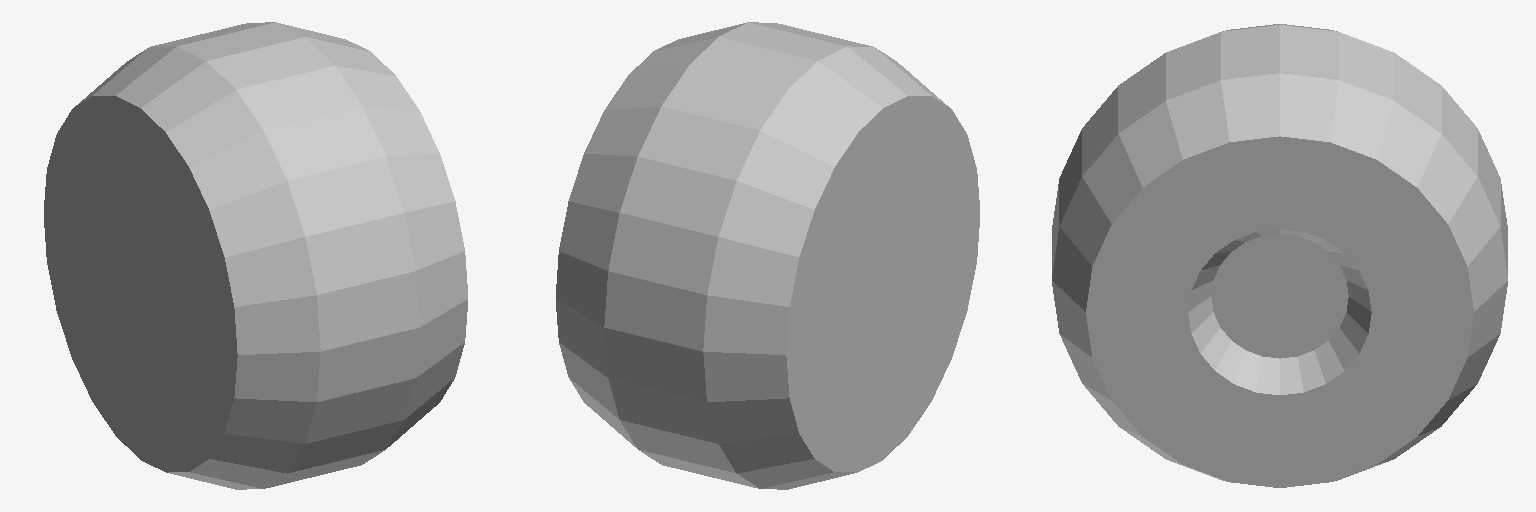
File: llanta_sedan.obj
3 renders of one model, left to right at view 1: azimuth 30°, elevation 25°; view 2: azimuth 150°, elevation 25°; view 3: azimuth 270°, elevation 25°, orthographic.
Visible parts, largest first — view 1: sedan.001; view 2: sedan.001; view 3: sedan.001.
Part boxes in pixels (x1,y1,x2,y2): sedan.001: (44,22,467,489); sedan.001: (556,22,979,489); sedan.001: (1052,24,1507,487).
Bounding box in the file's own units: 0.35 × 0.6 × 0.6.